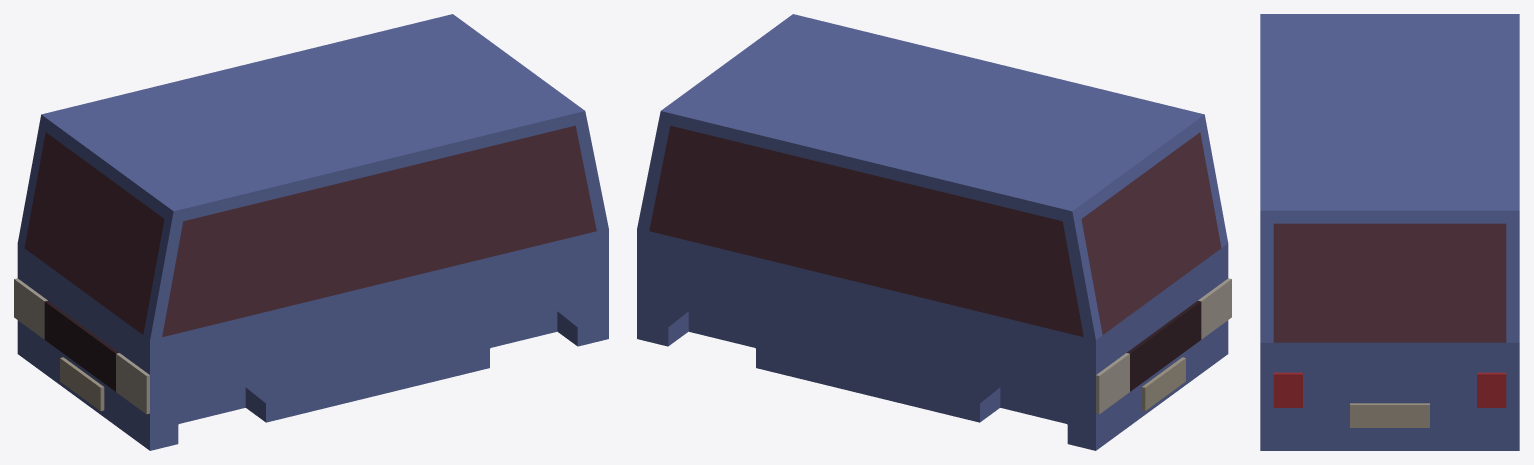
File: MiniVan_Blue.fbx
3 views of the same model, side by side, from view 1: azimuth 30°, elevation 25°; view 2: azimuth 150°, elevation 25°; view 3: azimuth 270°, elevation 25° (orthographic). The views are drawn at different scales.
Visible parts, largest first — view 1: MiniVan_Blue, MiniVan_Lights; view 2: MiniVan_Blue, MiniVan_Lights; view 3: MiniVan_Blue, MiniVan_Lights.
Boxes of the visible parts, x1=… form: MiniVan_Blue: x1=17, y1=14, x2=608, y2=450; MiniVan_Lights: x1=14, y1=278, x2=149, y2=414; MiniVan_Blue: x1=637, y1=14, x2=1228, y2=450; MiniVan_Lights: x1=1096, y1=278, x2=1231, y2=414; MiniVan_Blue: x1=1260, y1=14, x2=1519, y2=450; MiniVan_Lights: x1=1273, y1=372, x2=1506, y2=407.
Bounding box in the file's own units: 3.96 × 1.9 × 1.95.
